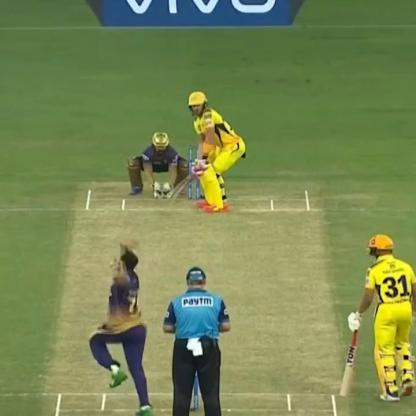ball: (101, 253, 120, 271)
bat: (164, 157, 203, 203)
pitch: (44, 168, 354, 416)
